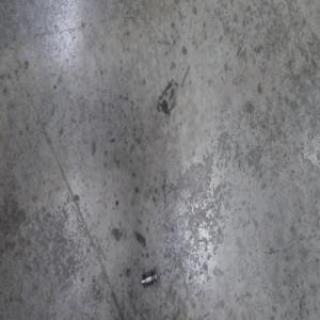Bolttrack_idkeyframe: (141, 268, 158, 290)
